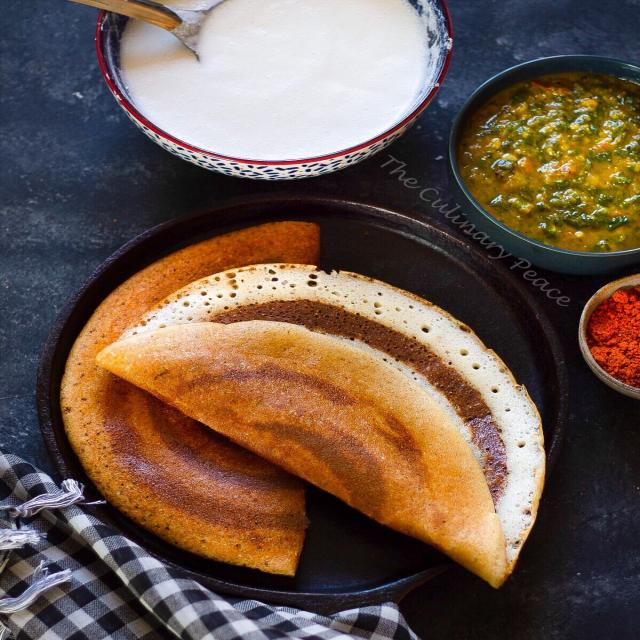plain dosa: (112, 261, 558, 592), (45, 213, 322, 582)
